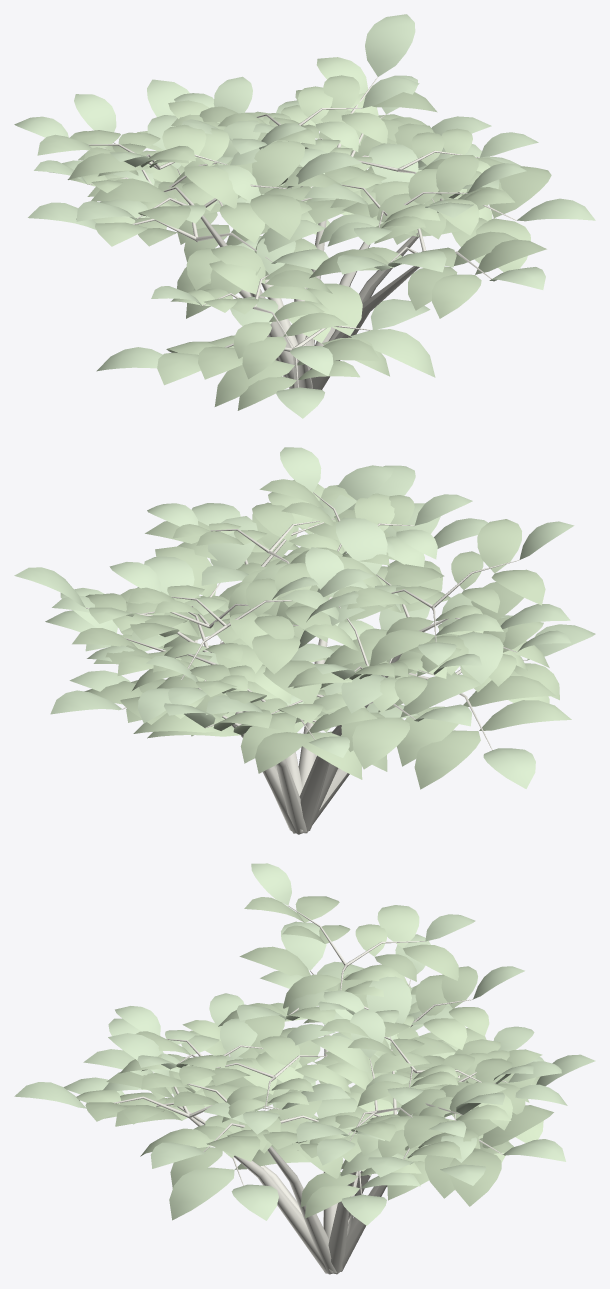
The model's file is SM_WLA_Bush_B.fbx.
The picture shows the model from 3 angles, top to bottom: view 1: azimuth 30°, elevation 25°; view 2: azimuth 150°, elevation 25°; view 3: azimuth 270°, elevation 25°; orthographic projection. The views are drawn at different scales.
Parts seen in each view (by area): view 1: SM_WLA_Bush_B; view 2: SM_WLA_Bush_B; view 3: SM_WLA_Bush_B.
Part boxes in pixels (left/top/right/bottom): SM_WLA_Bush_B: left=14, top=14, right=595, bottom=418; SM_WLA_Bush_B: left=14, top=447, right=595, bottom=834; SM_WLA_Bush_B: left=14, top=863, right=595, bottom=1274.
Bounding box in the file's own units: 2.32 × 2.07 × 1.35.
